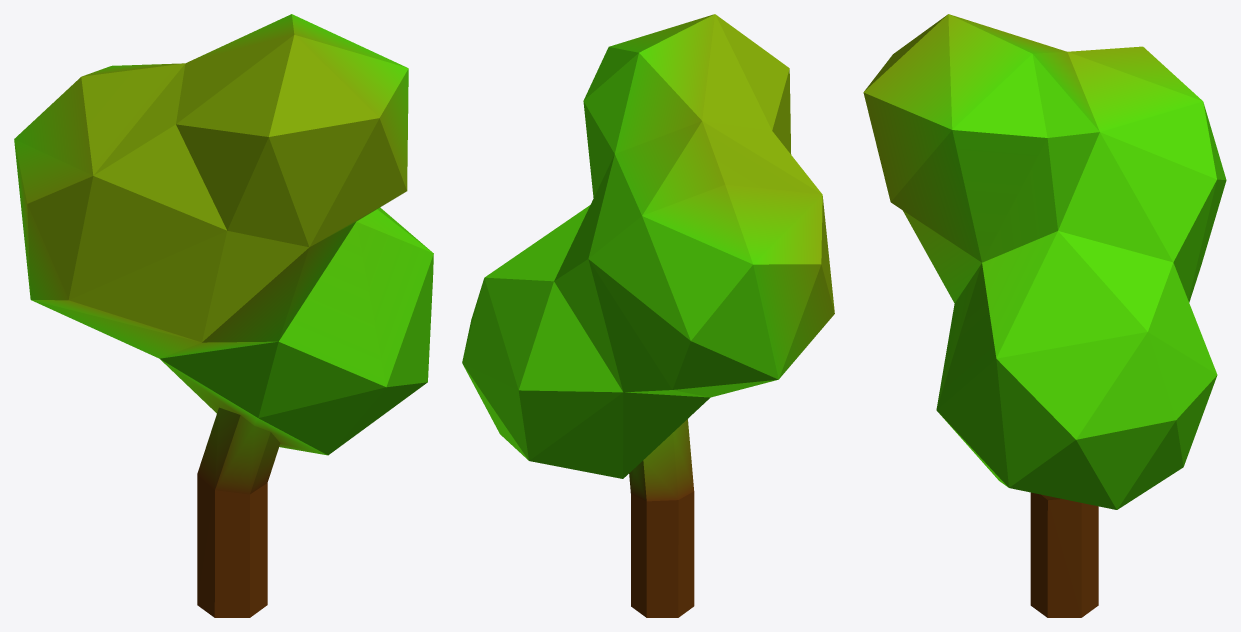
File: tree_1.fbx
3 renders of one model, left to right at view 1: azimuth 30°, elevation 25°; view 2: azimuth 150°, elevation 25°; view 3: azimuth 270°, elevation 25°, orthographic. The views are drawn at different scales.
Parts seen in each view (by area): view 1: tree_; view 2: tree_; view 3: tree_.
Boxes of the visible parts, x1,y1,x2,y2 form: tree_: [14, 14, 433, 617]; tree_: [462, 14, 834, 617]; tree_: [863, 14, 1226, 617].
Bounding box in the file's own units: 4.66 × 6.88 × 3.82.
